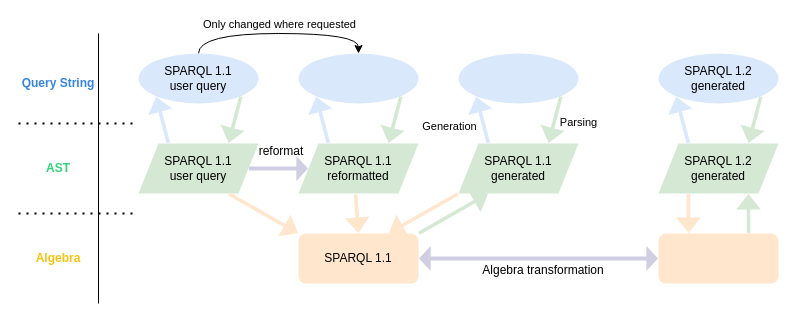
Some shapes in this 795 by 322 pixel diagram are drawn without their labels. The box of each missing label's shape, as (x1, y1, x2, y2) in pixels:
SPARQL 1.1 generated query: (458, 53, 578, 103)
SPARQL 1.1 reformatted query: (298, 53, 418, 103)
SPARQL 1.2: (658, 233, 778, 283)
